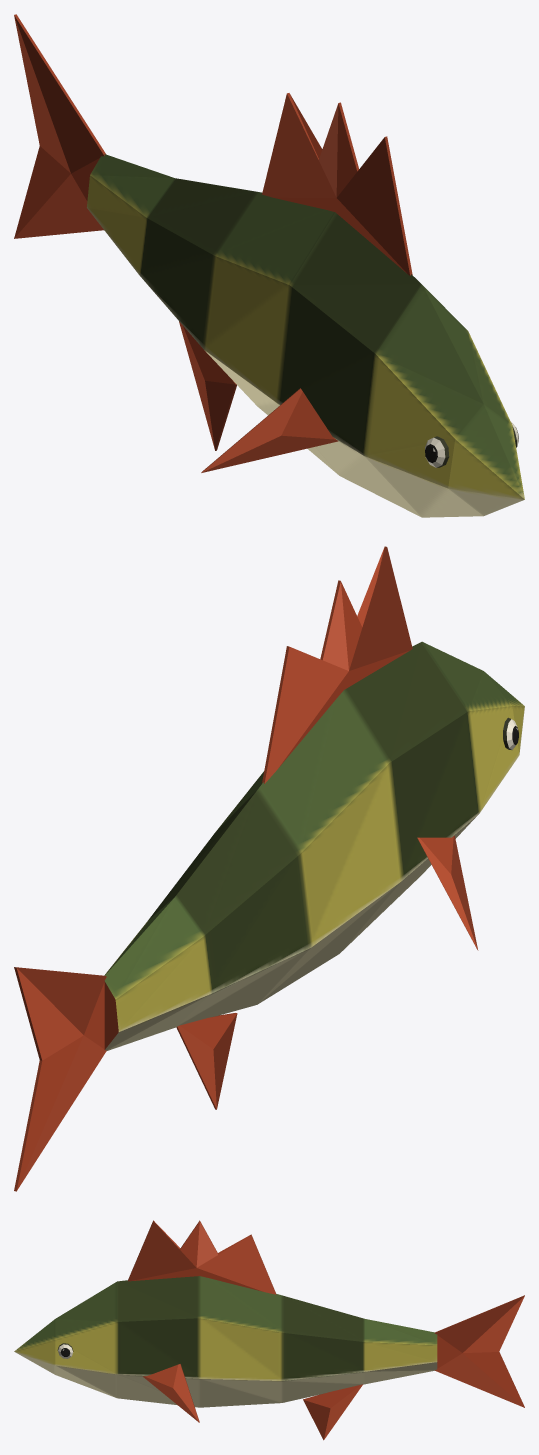
The model's file is Perch.fbx.
The picture shows the model from 3 angles, top to bottom: view 1: azimuth 30°, elevation 25°; view 2: azimuth 150°, elevation 25°; view 3: azimuth 270°, elevation 25°; orthographic projection. The views are drawn at different scales.
Parts seen in each view (by area): view 1: Perch; view 2: Perch; view 3: Perch.
Part boxes in pixels (x1,y1,x2,y2): Perch: (14,14,524,517); Perch: (14,546,524,1191); Perch: (14,1220,524,1440).
Size of the model in its own units: 0.1058 by 0.1598 by 0.3366.
1 material, 1 textured.
